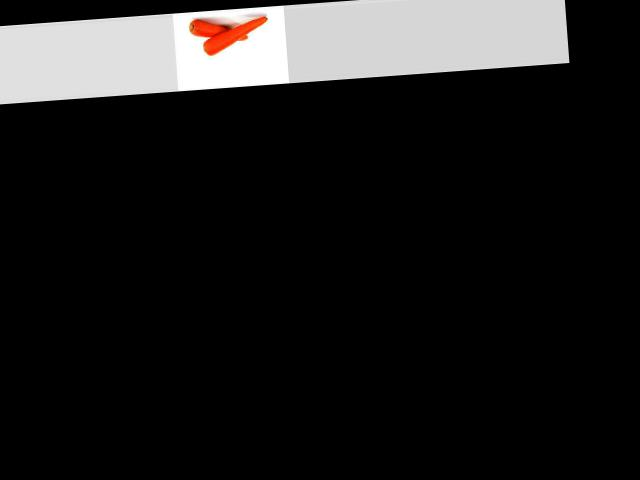carrot: (185, 14, 253, 47)
